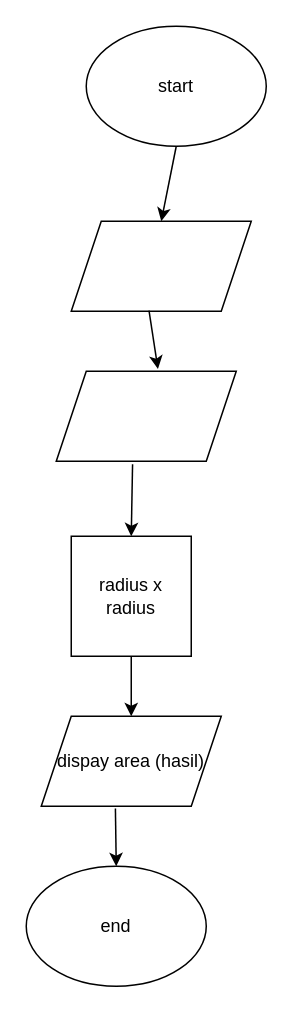
Image size: 293x1013. Some labels were removed from this diagram. The shapes that lost their labels are listed below. From the top down, each one's centre as x and y in pixels, then its label:
At [160,265]: "input radius".
At [145,415]: "area = 3.14".
